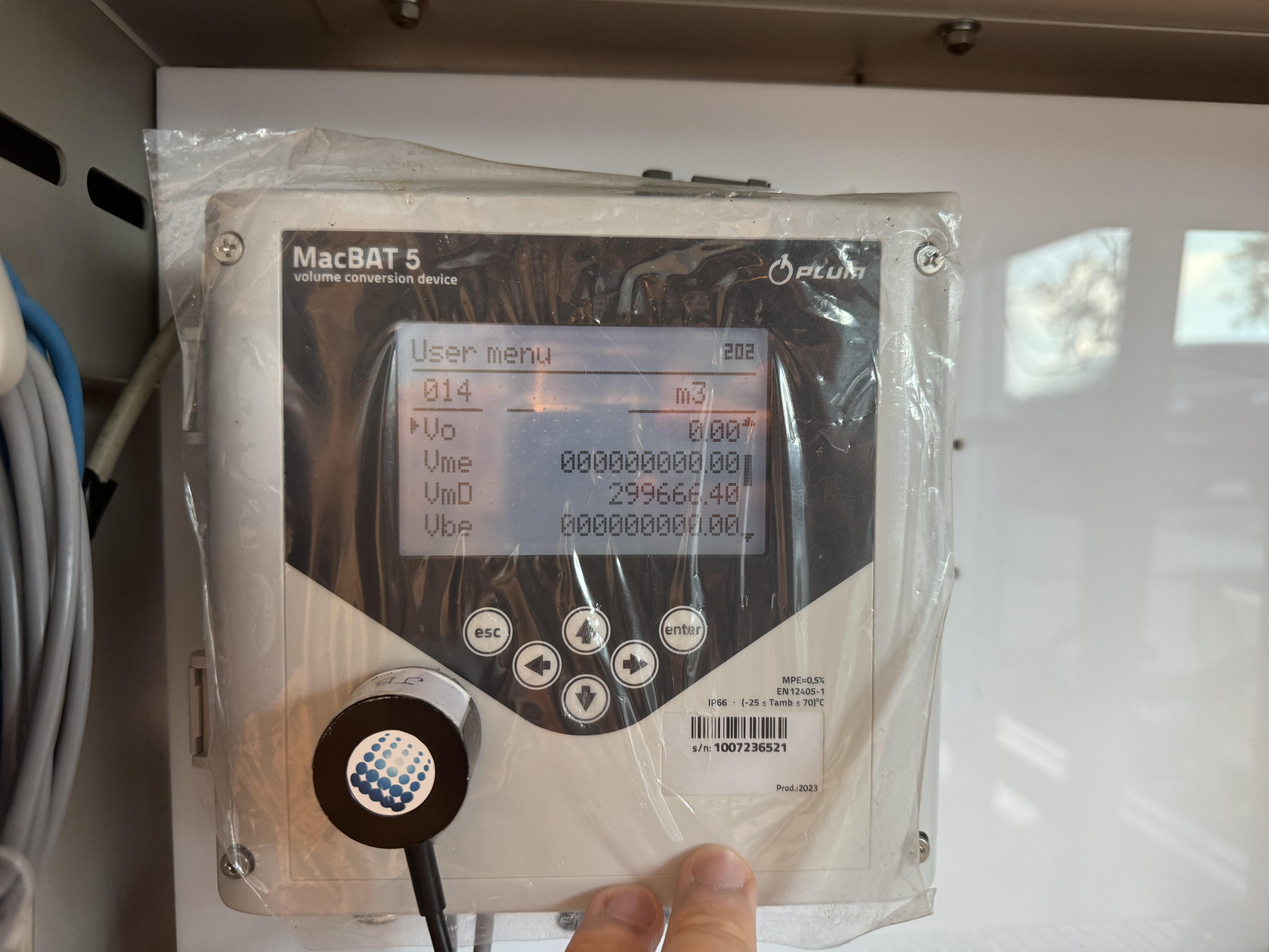digital_screen: (395, 322, 768, 558)
